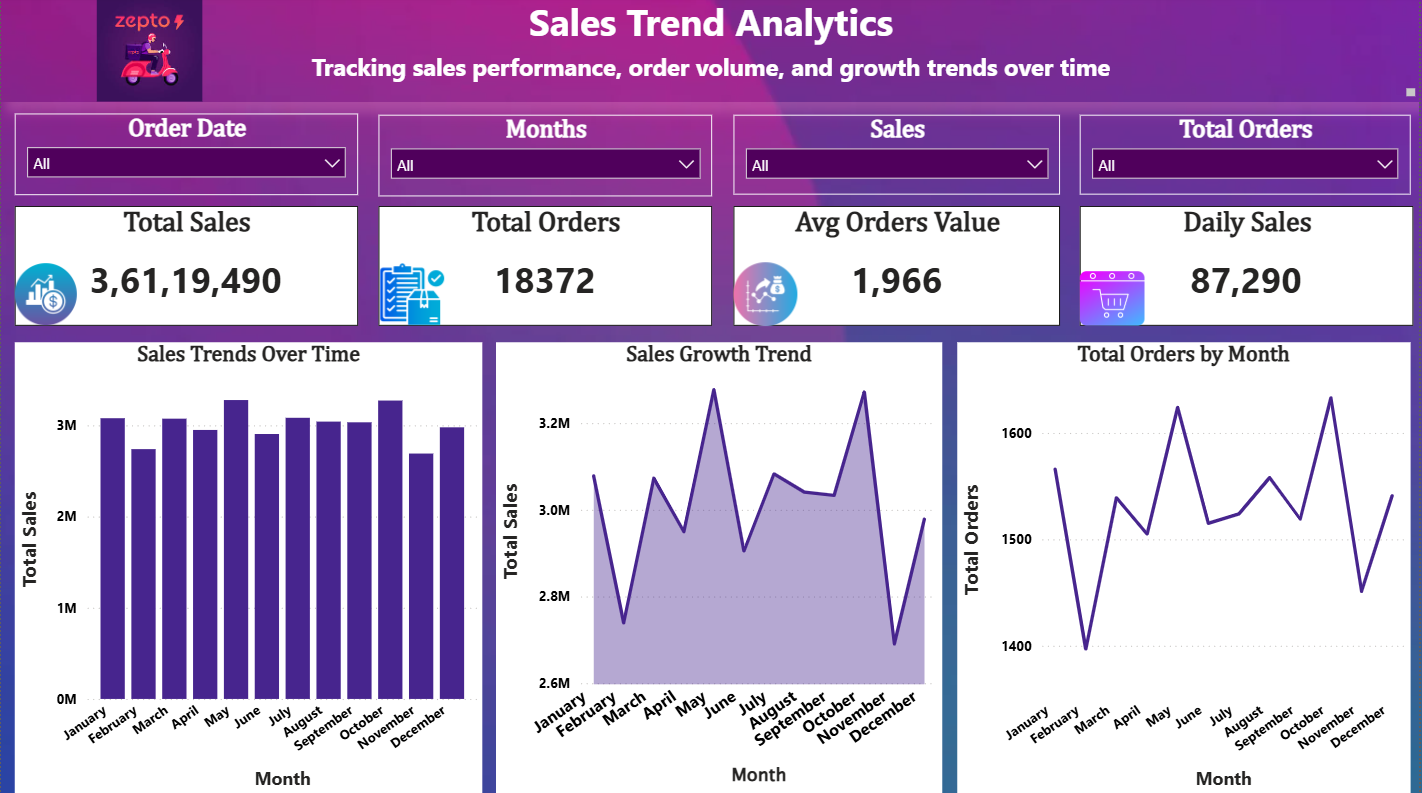

This screenshot's page, from the dashboard's own definition file:
{"tool":"powerbi","page":{"name":"sales trend","canvas":[1280,720],"ordinal":1},"visuals":[{"type":"textbox","title":"Sales Trend Analytics","box":[0,0,1280.3,95.4],"z":0},{"type":"image","box":[68.5,0,130.8,95.4],"z":1000},{"type":"slicer","title":"Order Date","fields":{"Values":["zepto vw_daily_sales.order_date"]},"box":[12.2,106.4,309.4,73.4],"z":2000},{"type":"slicer","title":"Months","fields":{"Values":["zepto vw_daily_sales.order_date.Variation.Date Hierarchy.Month"]},"box":[339.9,107.6,300.8,73.4],"z":3000},{"type":"slicer","title":"Sales","fields":{"Values":["zepto vw_daily_sales.total_sales"]},"box":[660.3,107.6,294.7,72.1],"z":4000},{"type":"slicer","title":"Total Orders","fields":{"Values":["zepto vw_daily_sales.total_orders"]},"box":[972.2,107.6,298.4,72.1],"z":5000},{"type":"card","title":"Total Sales","fields":{"Values":["Sum(zepto vw_daily_sales.total_sales)"]},"box":[12.2,189.5,309.4,107.6],"z":6000},{"type":"card","title":"Total Orders","fields":{"Values":["Sum(zepto vw_daily_sales.total_orders)"]},"box":[339.9,189.5,300.8,107.6],"z":7000},{"type":"card","title":"Avg Orders Value","fields":{"Values":["zepto vw_daily_sales.Avg Order Value"]},"box":[660.3,189.5,294.7,107.6],"z":8000},{"type":"card","title":"Daily Sales","fields":{"Values":["zepto vw_daily_sales.Max Daily Sales"]},"box":[972.2,189.5,300.8,107.6],"z":9000},{"type":"clusteredColumnChart","title":"Sales Trends Over Time","fields":{"Category":["zepto vw_daily_sales.order_date.Variation.Date Hierarchy.Month"],"Y":["Sum(zepto vw_daily_sales.total_sales)"]},"box":[12.2,311.8,421.9,408.4],"z":10000},{"type":"lineChart","title":" Total Orders by Month","fields":{"Category":["zepto vw_daily_sales.order_date.Variation.Date Hierarchy.Month"],"Y":["Sum(zepto vw_daily_sales.total_orders)"]},"box":[862.1,311.8,408.4,408.4],"z":11000},{"type":"areaChart","title":"Sales Growth Trend","fields":{"Category":["zepto vw_daily_sales.order_date.Variation.Date Hierarchy.Month","zepto vw_daily_sales.order_date.Variation.Date Hierarchy.Day"],"Y":["Sum(zepto vw_daily_sales.total_sales)"]},"box":[446.3,311.8,402.3,408.4],"z":12000},{"type":"image","box":[12.2,239.7,56.3,57.5],"z":13000},{"type":"image","box":[321.6,239.7,99,57.5],"z":14000},{"type":"image","box":[660.3,239.7,57.5,57.5],"z":15000},{"type":"image","box":[972.2,243.3,58.7,58.7],"z":16000}]}

Visuals, with their boxes in screenshot pixels (x1, y1, x2, y2), scaled from the page's 1280x720 canvas onto the 1422x793 screenshot:
"Sales Trend Analytics" textbox: <region>0, 0, 1421, 105</region>
image: <region>76, 0, 221, 105</region>
"Order Date" slicer: <region>14, 117, 357, 198</region>
"Months" slicer: <region>378, 119, 712, 199</region>
"Sales" slicer: <region>734, 119, 1061, 198</region>
"Total Orders" slicer: <region>1080, 119, 1412, 198</region>
"Total Sales" card: <region>14, 209, 357, 327</region>
"Total Orders" card: <region>378, 209, 712, 327</region>
"Avg Orders Value" card: <region>734, 209, 1061, 327</region>
"Daily Sales" card: <region>1080, 209, 1414, 327</region>
"Sales Trends Over Time" clusteredColumnChart: <region>14, 343, 482, 792</region>
" Total Orders by Month" lineChart: <region>958, 343, 1411, 792</region>
"Sales Growth Trend" areaChart: <region>496, 343, 943, 792</region>
image: <region>14, 264, 76, 327</region>
image: <region>357, 264, 467, 327</region>
image: <region>734, 264, 797, 327</region>
image: <region>1080, 268, 1145, 333</region>
